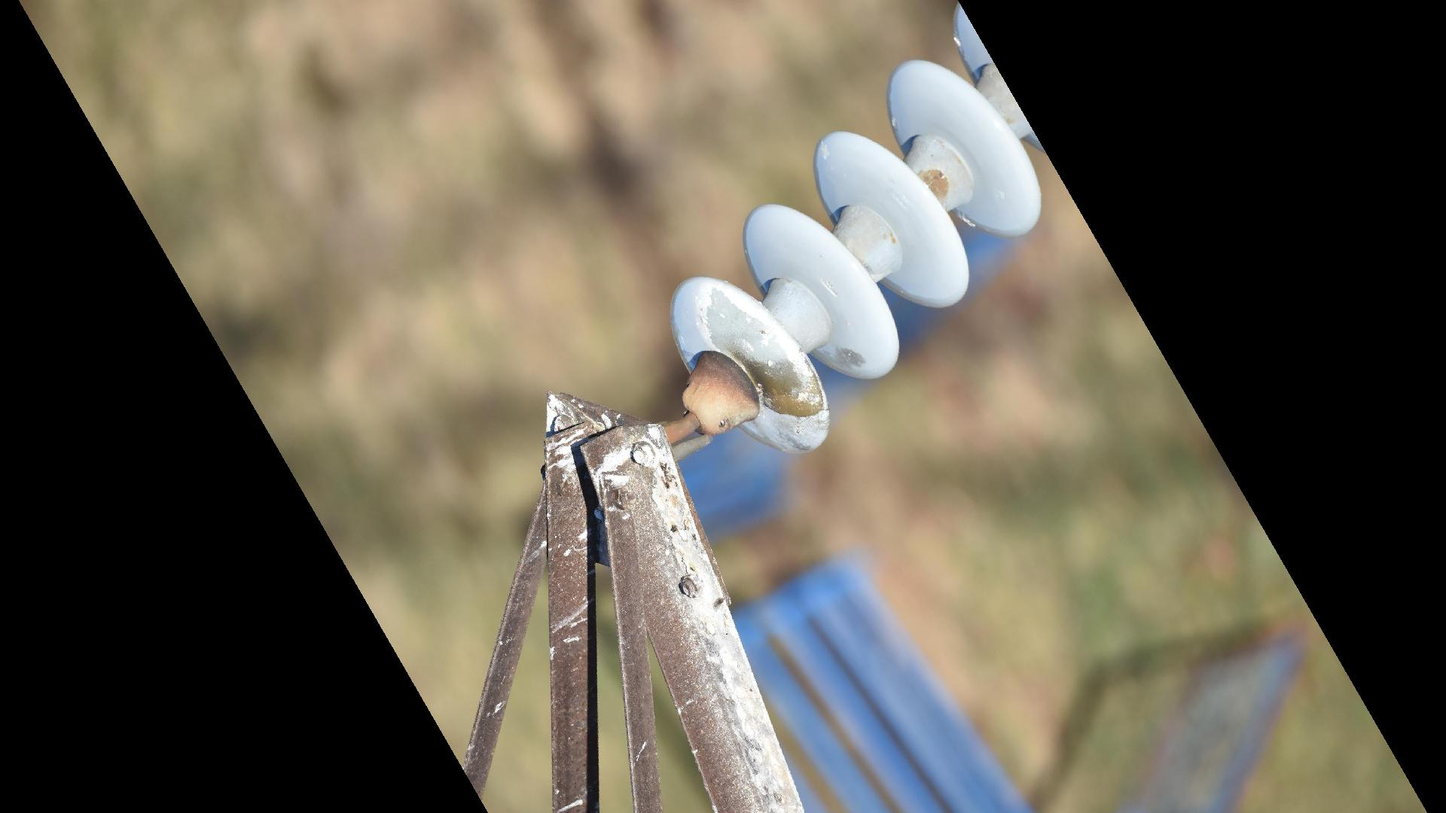insulator: (664, 1, 1046, 462)
insulator_flashover: (701, 282, 828, 422)
